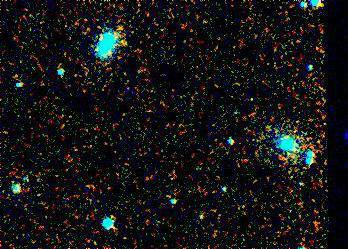star: (0, 61, 28, 91)
